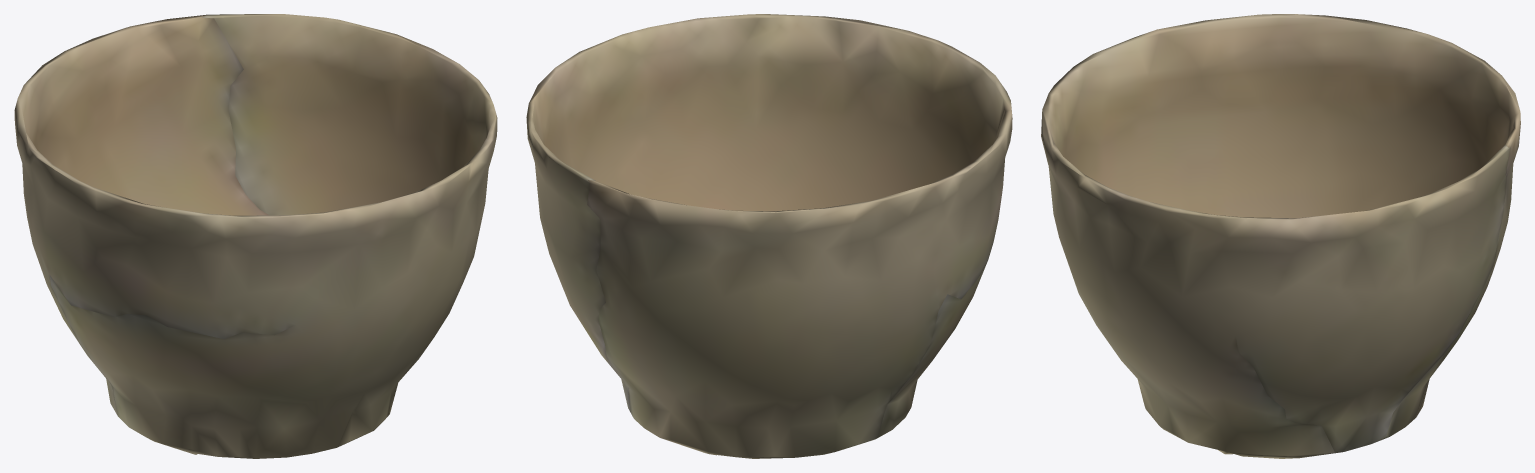
The model's file is Footed_Bowl_Sand-medium.glb.
The picture shows the model from 3 angles, left to right: view 1: azimuth 30°, elevation 25°; view 2: azimuth 150°, elevation 25°; view 3: azimuth 270°, elevation 25°; orthographic projection.
Visible parts, largest first — view 1: Footed_Bowl_Sand; view 2: Footed_Bowl_Sand; view 3: Footed_Bowl_Sand.
Part boxes in pixels (x1,y1,x2,y2): Footed_Bowl_Sand: (14,14,497,458); Footed_Bowl_Sand: (526,14,1012,458); Footed_Bowl_Sand: (1041,14,1520,458).
Size of the model in its own units: 0.1604 by 0.1086 by 0.1612.
Materials: 1 (1 with a texture image).
